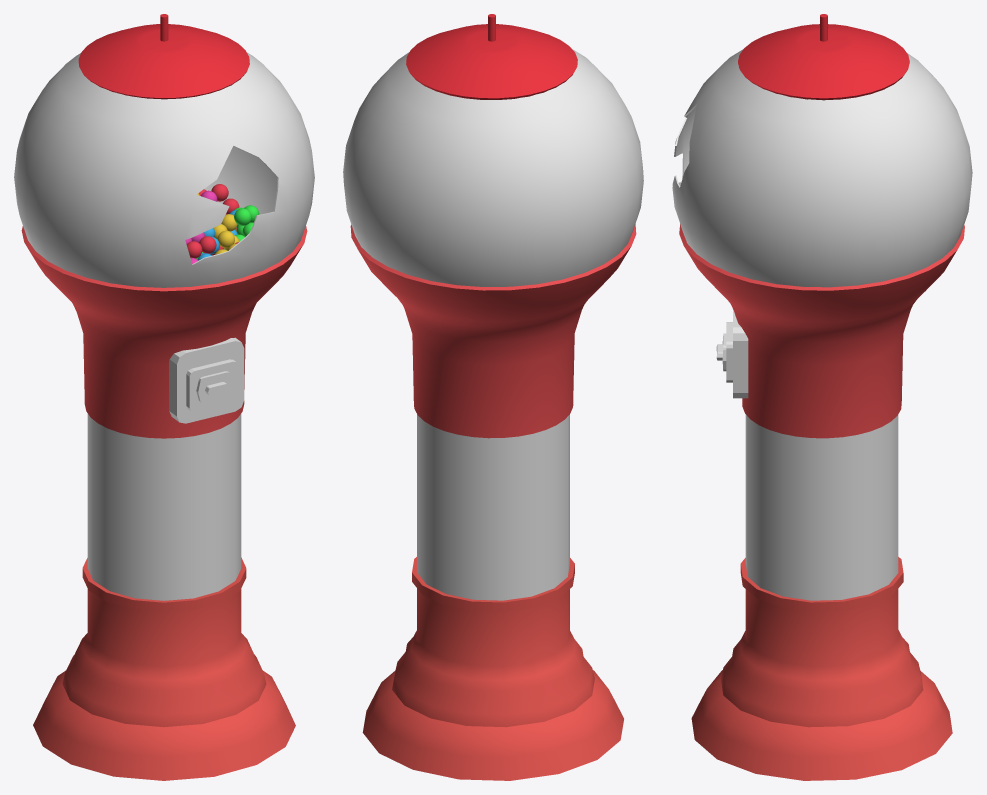
Rendered from chicle_maquina.fbx.
3 views of the same model, side by side, from view 1: azimuth 30°, elevation 25°; view 2: azimuth 150°, elevation 25°; view 3: azimuth 270°, elevation 25° (orthographic).
Parts seen in each view (by area): view 1: Cylinder, Sphere, Sphere.002, Sphere.001, Cube, Cube.002, Cube.003; view 2: Cylinder, Sphere, Sphere.002, Sphere.001; view 3: Cylinder, Sphere, Sphere.002, Sphere.001, Cube.
Part boxes in pixels (x1=…): Cylinder: x1=33, y1=414, x2=295, y2=780; Sphere: x1=14, y1=52, x2=314, y2=287; Sphere.002: x1=21, y1=226, x2=307, y2=438; Sphere.001: x1=78, y1=14, x2=249, y2=99; Cube: x1=169, y1=337, x2=244, y2=423; Cube.002: x1=186, y1=359, x2=237, y2=411; Cube.003: x1=196, y1=371, x2=233, y2=403; Cylinder: x1=362, y1=414, x2=623, y2=780; Sphere: x1=343, y1=49, x2=643, y2=286; Sphere.002: x1=350, y1=224, x2=636, y2=438; Sphere.001: x1=406, y1=14, x2=577, y2=99; Cylinder: x1=691, y1=414, x2=952, y2=780; Sphere: x1=672, y1=49, x2=972, y2=287; Sphere.002: x1=679, y1=224, x2=964, y2=438; Sphere.001: x1=738, y1=14, x2=909, y2=100; Cube: x1=733, y1=309, x2=748, y2=398.
Size of the model in its own units: 64.92 by 169 by 64.75.
